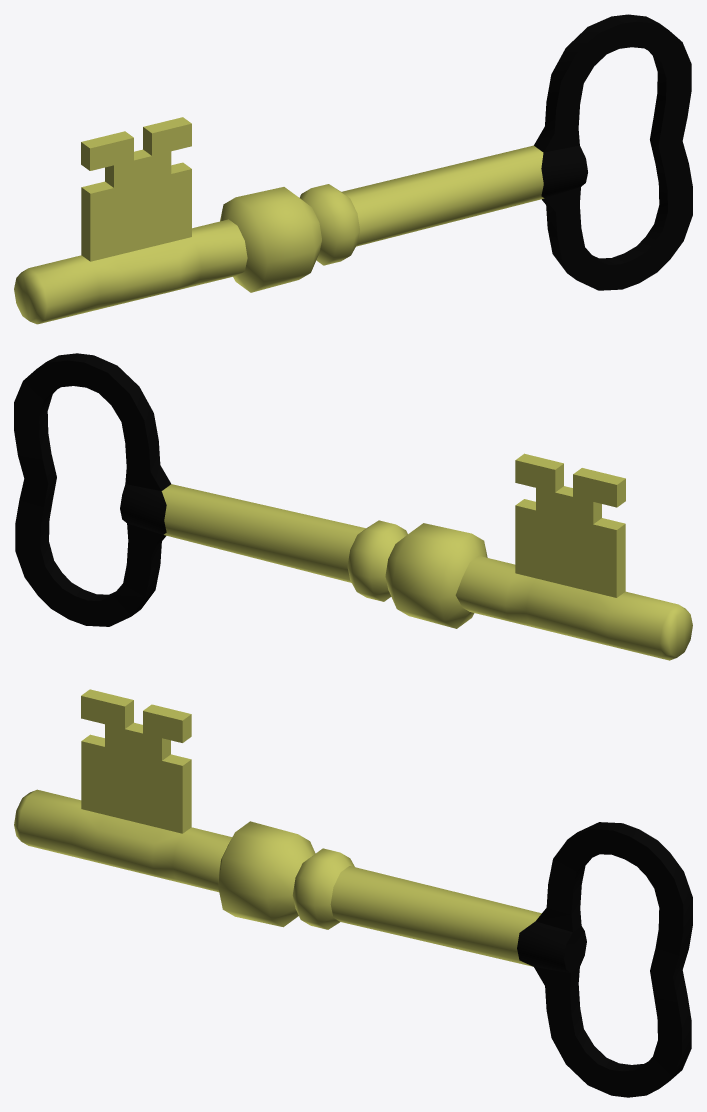
File: Key.obj
3 views of the same model, one above another, from view 1: azimuth 30°, elevation 25°; view 2: azimuth 150°, elevation 25°; view 3: azimuth 330°, elevation 25° (orthographic).
Visible parts, largest first — view 1: Key_B; view 2: Key_B; view 3: Key_B.
Part boxes in pixels (x1,y1,x2,y2): Key_B: [14, 14, 692, 324]; Key_B: [14, 353, 692, 660]; Key_B: [14, 689, 692, 1097].
Bounding box in the file's own units: 9.16 × 3.58 × 1.18.
1 material, 1 textured.
